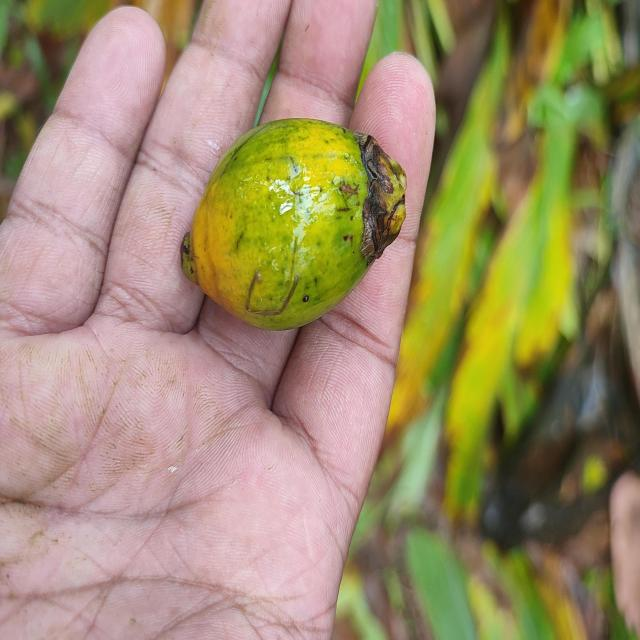good: (178, 119, 406, 333)
